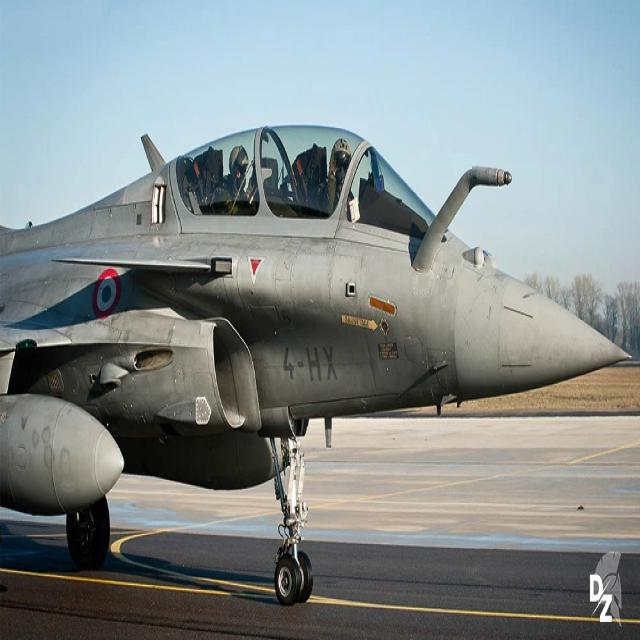jet: (7, 35, 635, 640)
